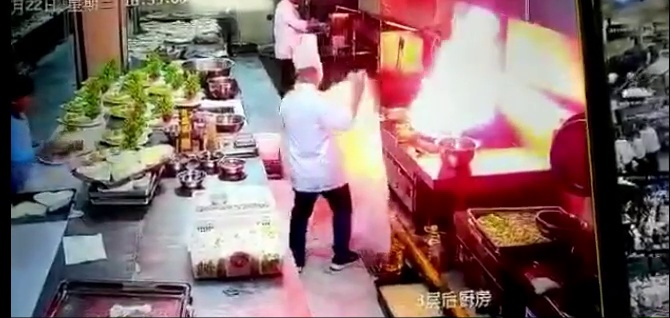fire: (407, 6, 509, 136)
